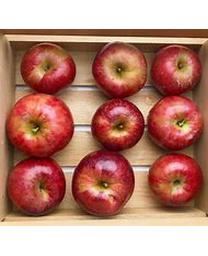apple: (5, 93, 73, 157), (71, 150, 133, 216), (6, 157, 64, 215), (146, 95, 203, 151), (91, 41, 146, 98), (147, 153, 202, 206), (20, 42, 75, 94), (90, 98, 143, 150), (150, 45, 202, 96)
